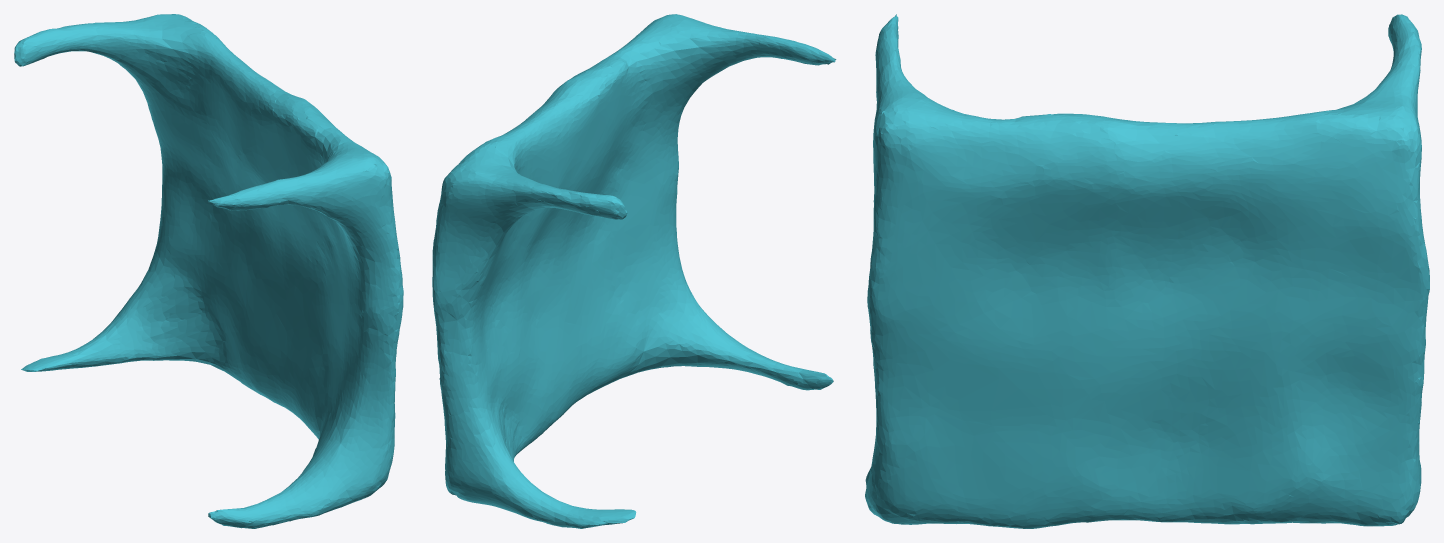
3 views of the same model, side by side, from view 1: azimuth 30°, elevation 25°; view 2: azimuth 150°, elevation 25°; view 3: azimuth 270°, elevation 25° (orthographic). The views are drawn at different scales.
Visible parts, largest first — view 1: Renderer Node; view 2: Renderer Node; view 3: Renderer Node.
Boxes of the visible parts, bbox=[...] form: Renderer Node: bbox=[14, 14, 403, 528]; Renderer Node: bbox=[432, 14, 836, 528]; Renderer Node: bbox=[865, 14, 1429, 528].
Bounding box in the file's own units: 0.3628 × 0.6043 × 0.7215.
1 material, 1 textured.
